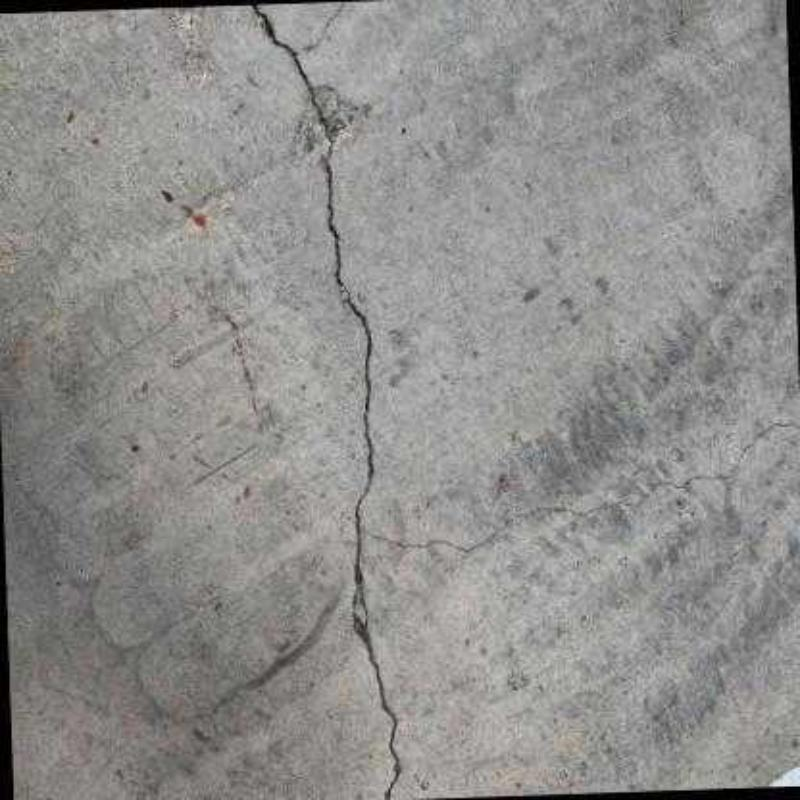crack: (252, 5, 402, 798), (360, 423, 790, 550)
